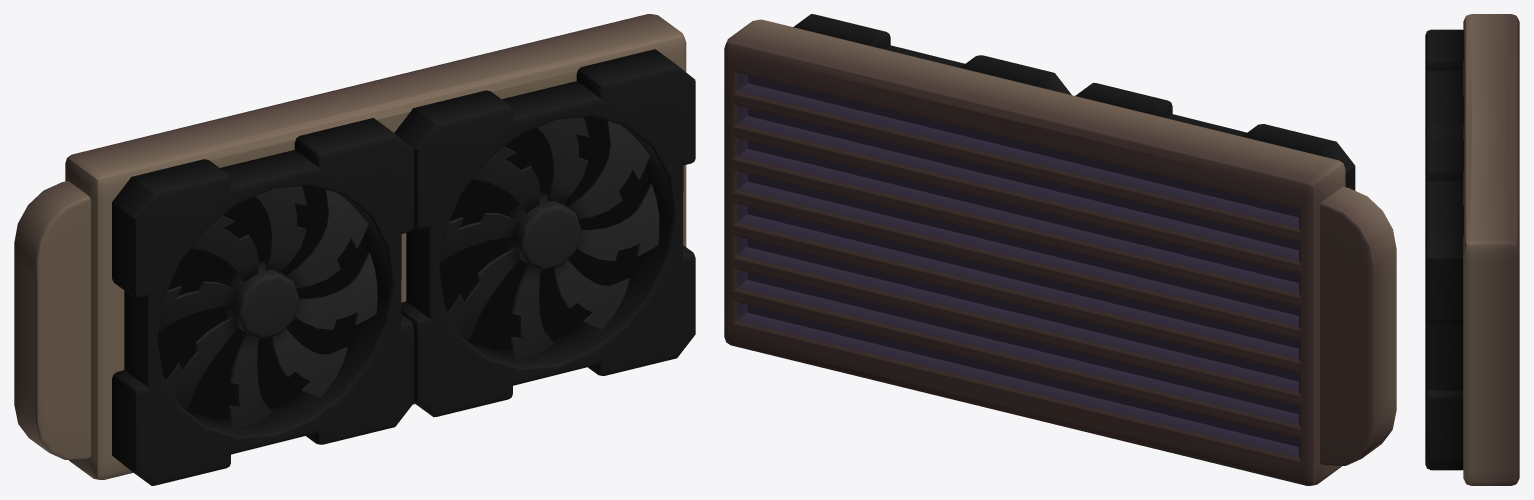
Rendered from Cooling_systems_lvl_08_V07.fbx.
3 views of the same model, side by side, from view 1: azimuth 30°, elevation 25°; view 2: azimuth 150°, elevation 25°; view 3: azimuth 270°, elevation 25° (orthographic). The views are drawn at different scales.
Parts seen in each view (by area): view 1: Body_Cooling, Fan_Cooling_01, Fan_Cooling_01.001; view 2: Body_Cooling; view 3: Body_Cooling.
Part boxes in pixels (x1,y1,x2,y2): Body_Cooling: (14,14,695,485); Fan_Cooling_01: (159,186,377,427); Fan_Cooling_01.001: (441,117,659,359); Body_Cooling: (724,14,1396,485); Body_Cooling: (1425,14,1519,485).
Bounding box in the file's own units: 119 × 53.89 × 18.72.
